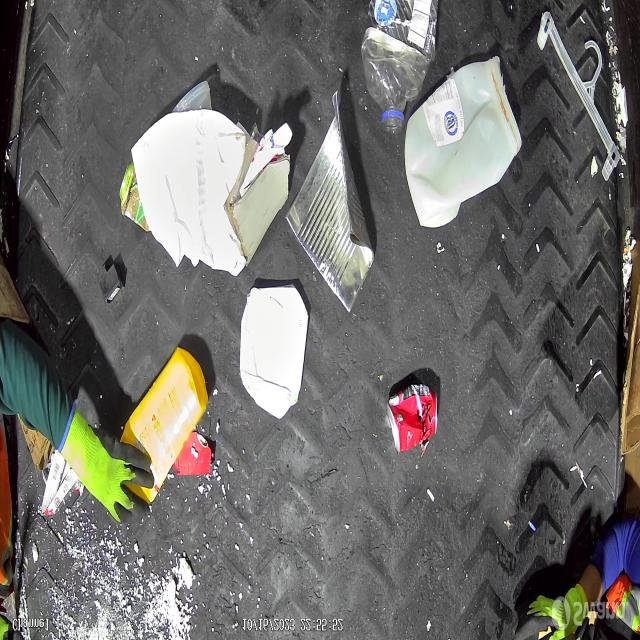can: (284, 87, 374, 314), (387, 384, 438, 455)
milk_jug: (404, 55, 522, 228)
non_white_jug: (122, 346, 209, 503)
plastic_bottle: (362, 0, 438, 134)
